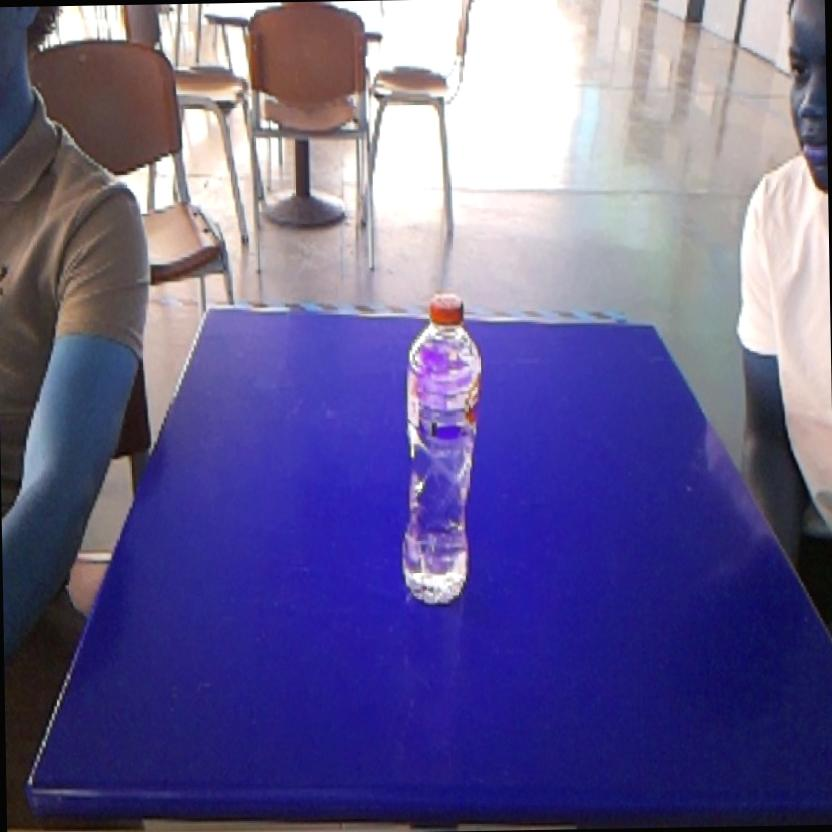good: (392, 287, 492, 616)
